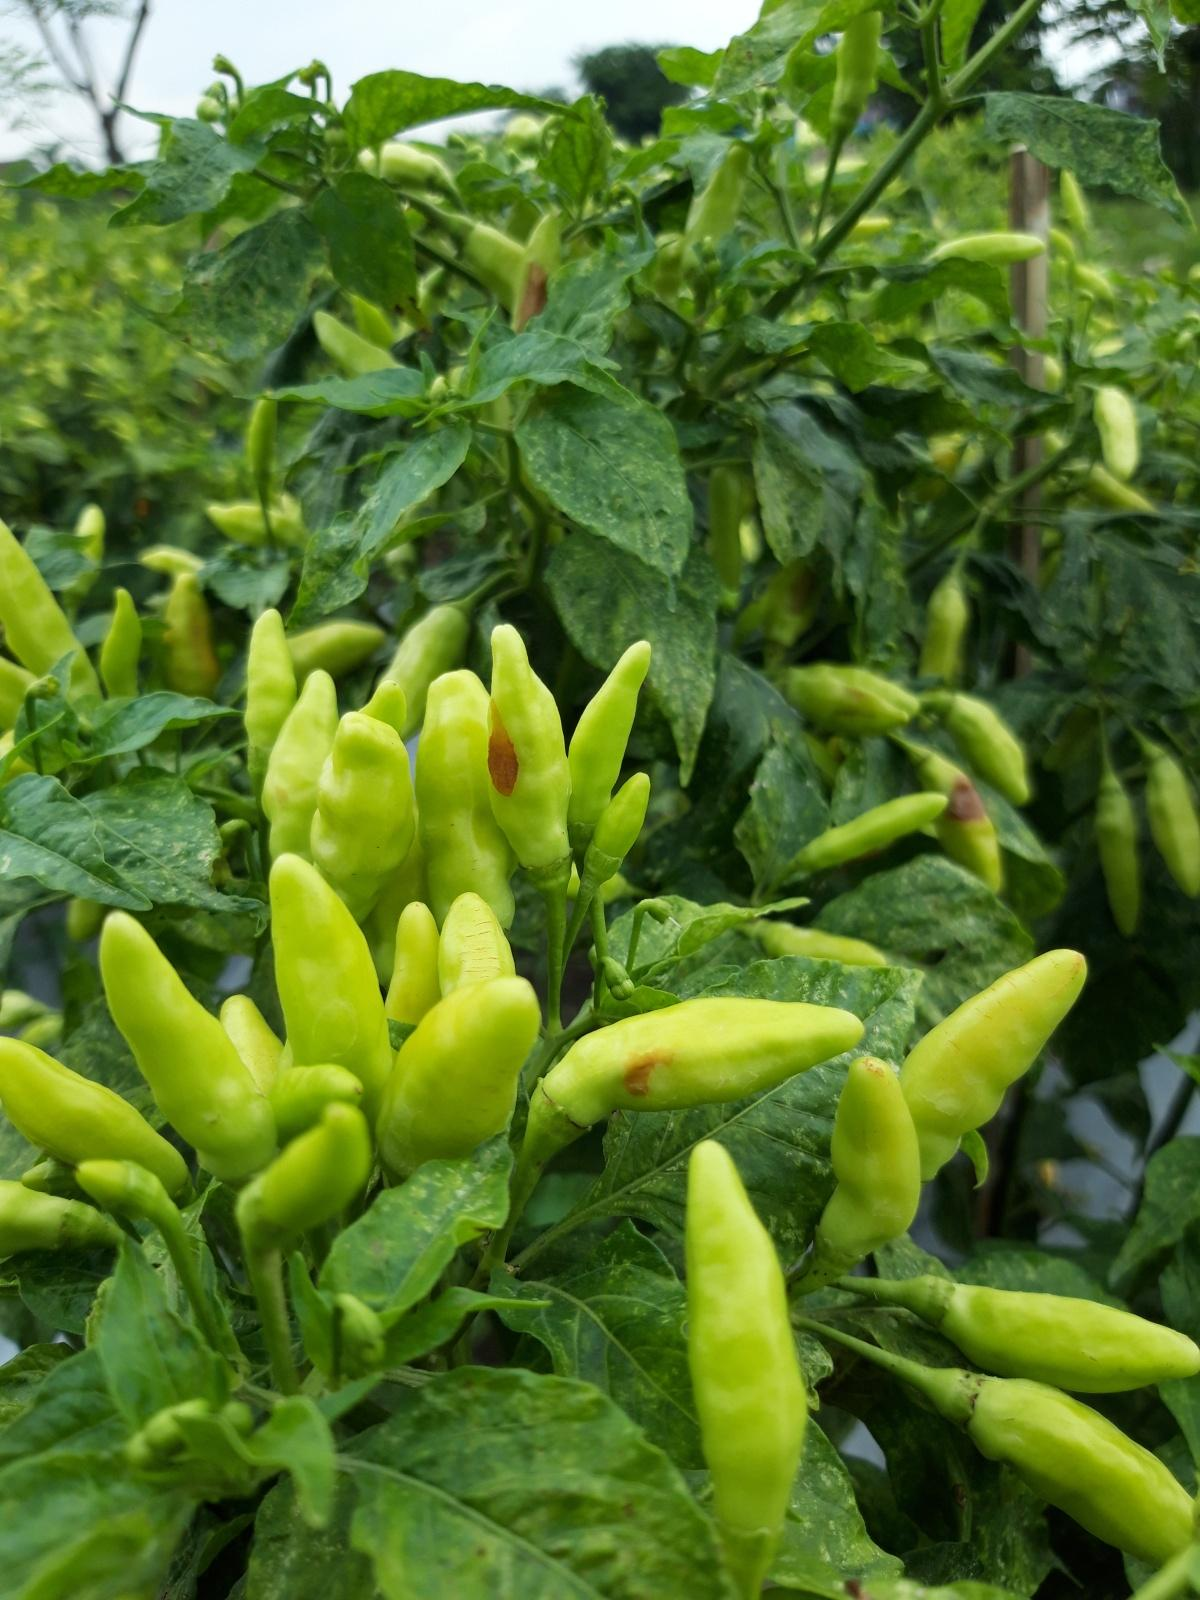cabai_normal: (681, 1140, 811, 1576), (930, 1362, 1200, 1563), (95, 910, 279, 1187), (903, 950, 1089, 1183), (374, 975, 543, 1191), (921, 1274, 1200, 1397), (268, 849, 395, 1104), (4, 1038, 189, 1199), (808, 1054, 921, 1281), (309, 711, 417, 925), (234, 1104, 373, 1245), (1, 517, 97, 711), (568, 639, 652, 852), (253, 666, 340, 850), (789, 790, 949, 872), (938, 690, 1037, 808), (787, 656, 920, 736), (243, 609, 303, 766), (1139, 750, 1200, 897), (1092, 782, 1143, 939), (584, 774, 652, 881), (163, 574, 221, 697), (97, 587, 146, 702), (1092, 384, 1139, 479), (937, 231, 1050, 266)
lalat_buah: (531, 997, 865, 1130), (479, 624, 575, 889), (916, 753, 1003, 894)
